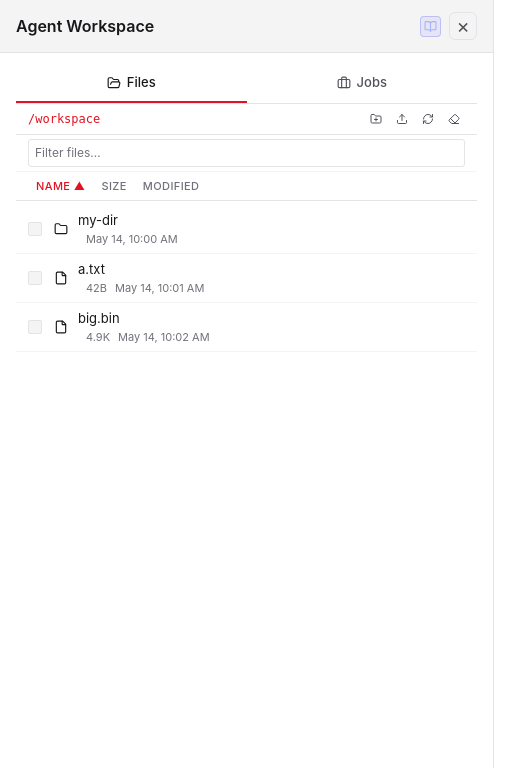
Test case: FileSystemDrawer: new folder (mkdir) › clicking the + folder button shows an inline input
Check: the text "a.txt" is shown, box [78,261,105,277]
Click the button titled "New folder in current directory".
click(376, 118)  # box [365,110,387,128]
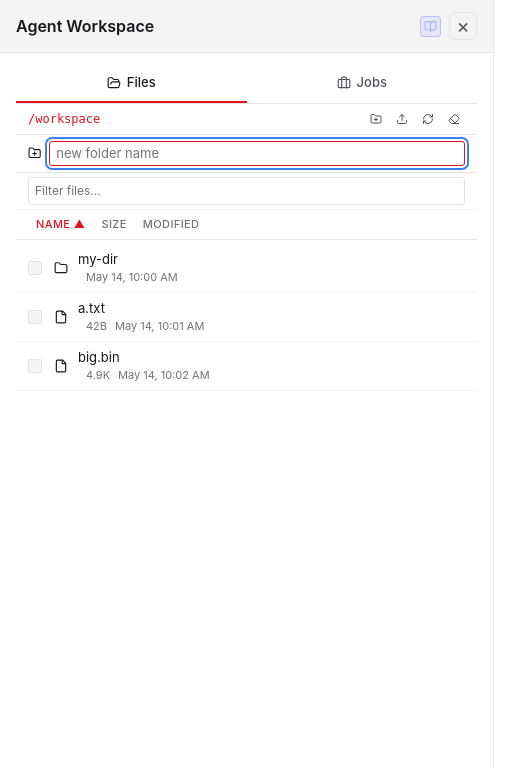
Check: the field with placeholder "new folder name" is shown, box [49,140,465,166]
